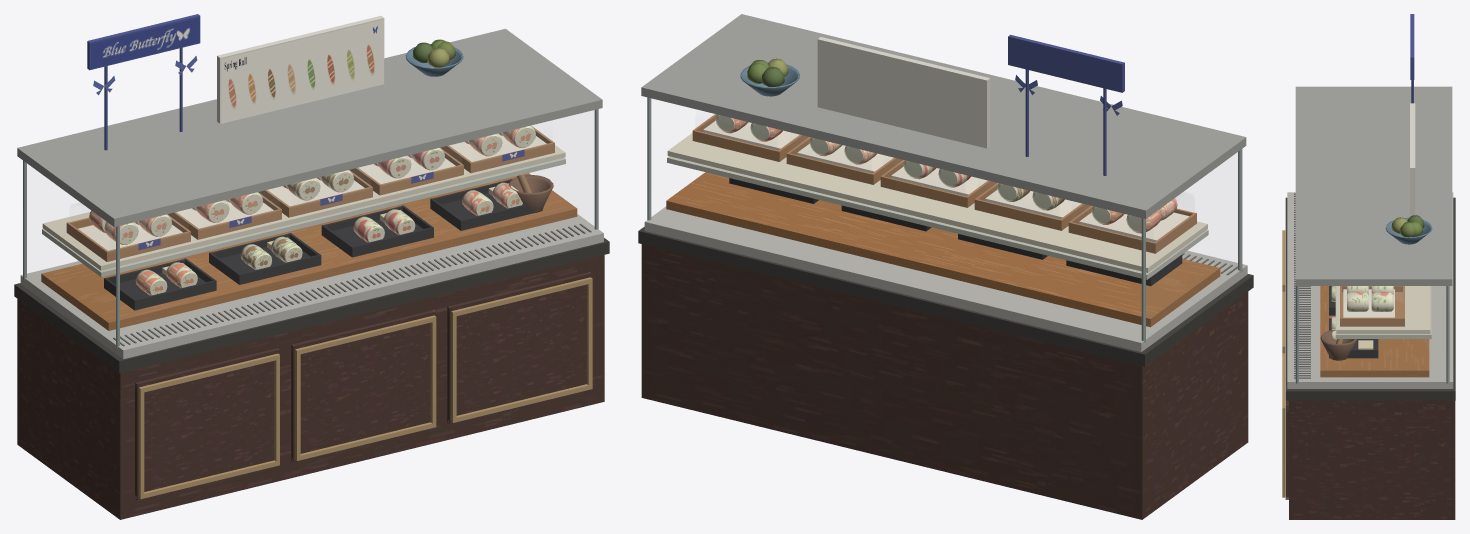
Rendered from counter.glb.
3 renders of one model, left to right at view 1: azimuth 30°, elevation 25°; view 2: azimuth 150°, elevation 25°; view 3: azimuth 270°, elevation 25°, orthographic. The views are drawn at different scales.
Parts seen in each view (by area): view 1: SpringRollCounter; view 2: SpringRollCounter; view 3: SpringRollCounter.
Boxes of the visible parts, x1,y1,x2,y2 form: SpringRollCounter: (14, 14, 609, 519); SpringRollCounter: (638, 14, 1253, 519); SpringRollCounter: (1282, 14, 1455, 519).
Size of the model in its own units: 2.48 by 1.99 by 0.938.
Materials: 2 (1 with a texture image).
